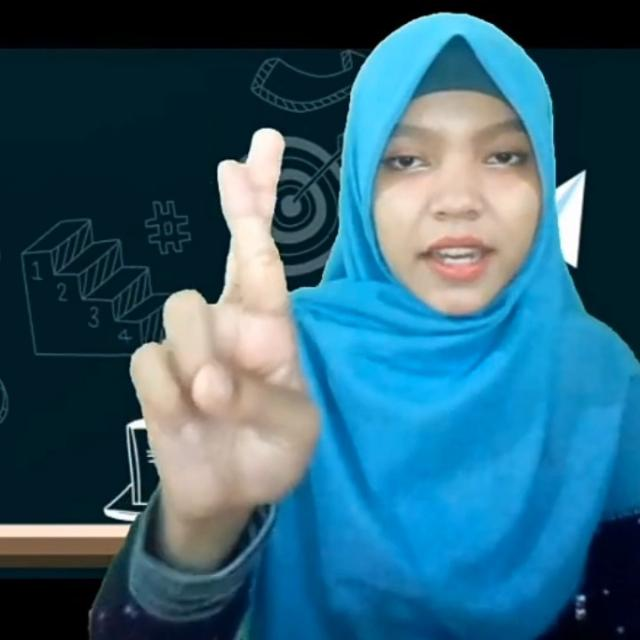R: (126, 119, 334, 513)
